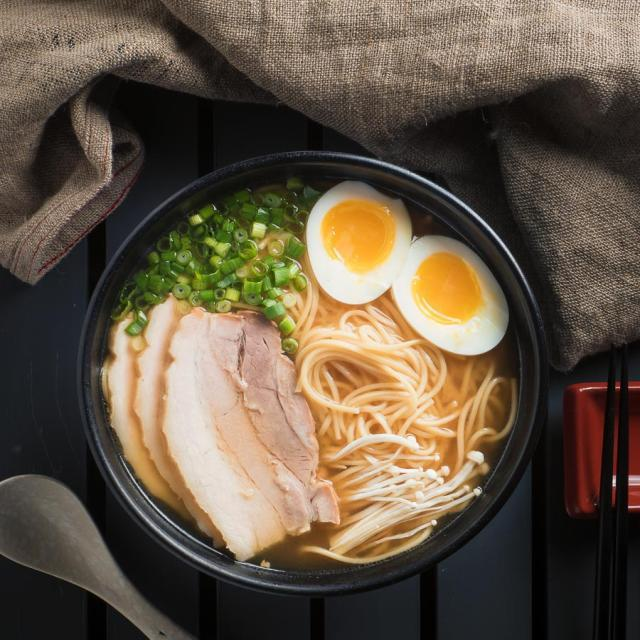cac loai rau cu: (113, 174, 309, 345)
mi misoramen: (99, 159, 540, 580)
soi mi miso: (306, 294, 499, 567)
thit heo: (103, 309, 344, 556)
trung: (400, 240, 509, 356), (310, 182, 399, 301)
